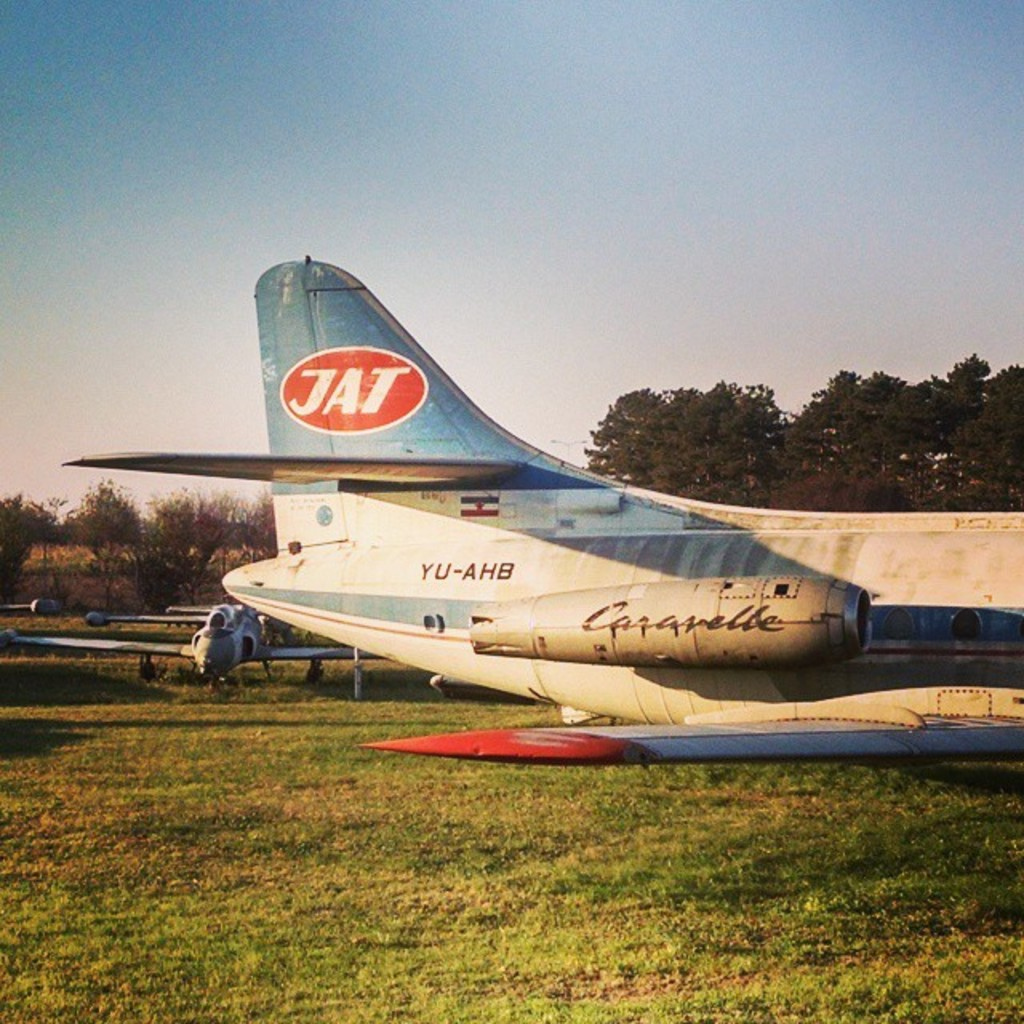Tree: (0, 352, 1024, 612)
